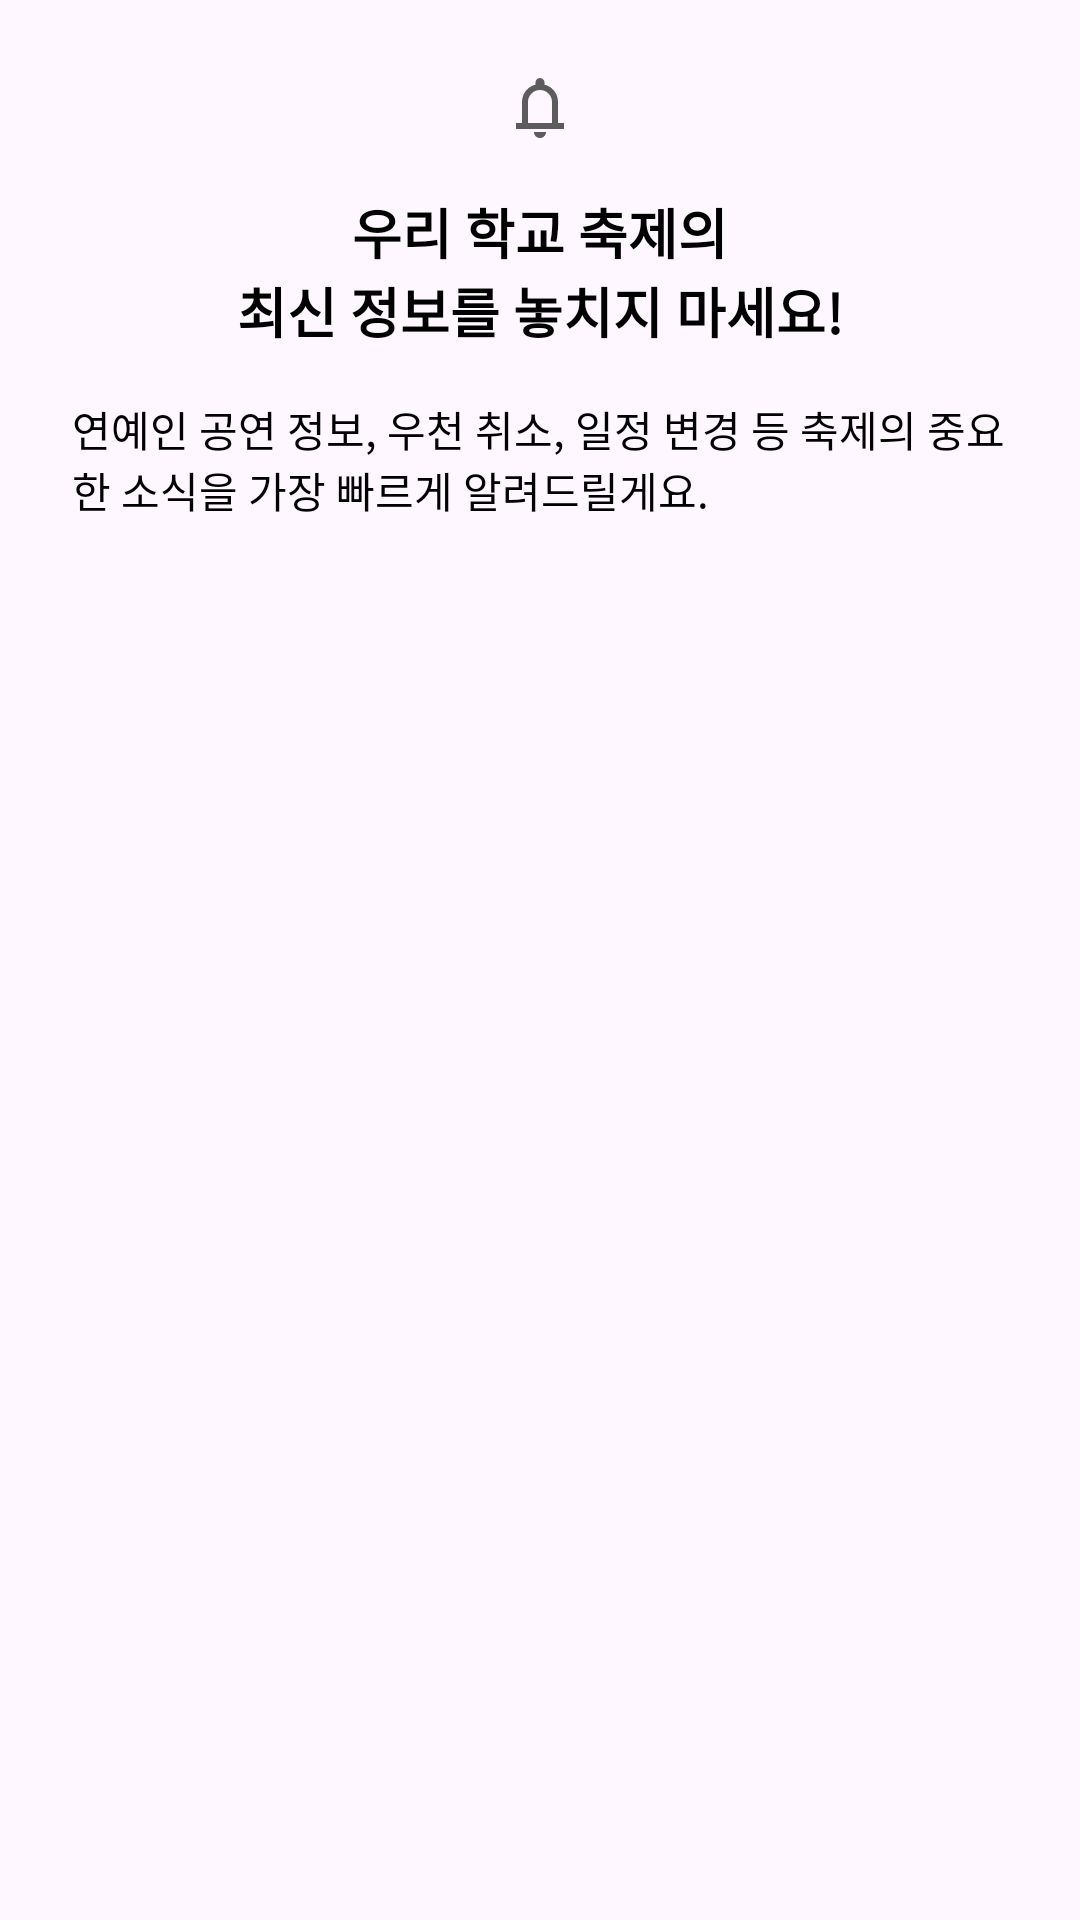

Icon click points for this 1080*1920 phone screenshot, format point (x, y):
alarm: point (540, 108)
